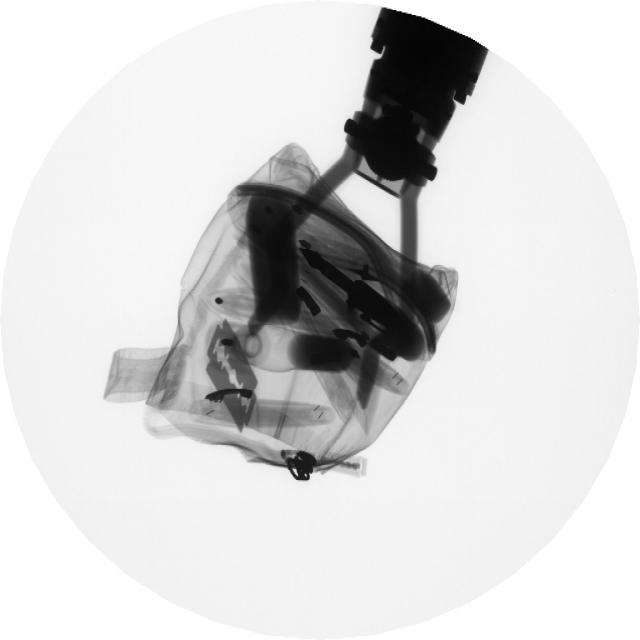BLADE: (204, 313, 263, 419)
